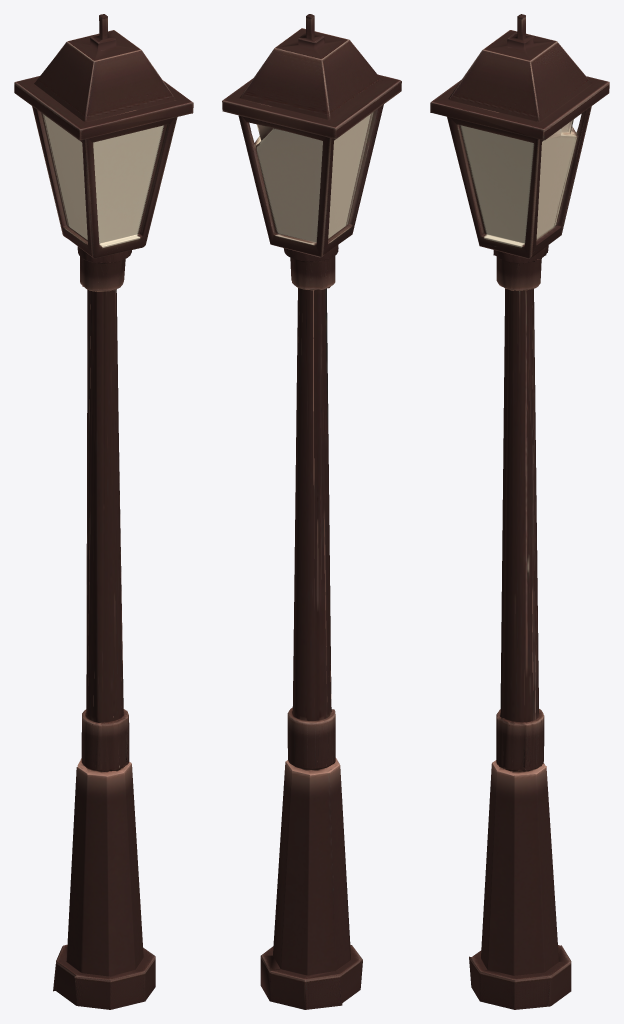
File: lamp-post.raw.glb
3 views of the same model, side by side, from view 1: azimuth 30°, elevation 25°; view 2: azimuth 150°, elevation 25°; view 3: azimuth 330°, elevation 25° (orthographic).
Bounding box in the file's own units: 0.1167 × 0.9512 × 0.1167.
1 material, 1 textured.
